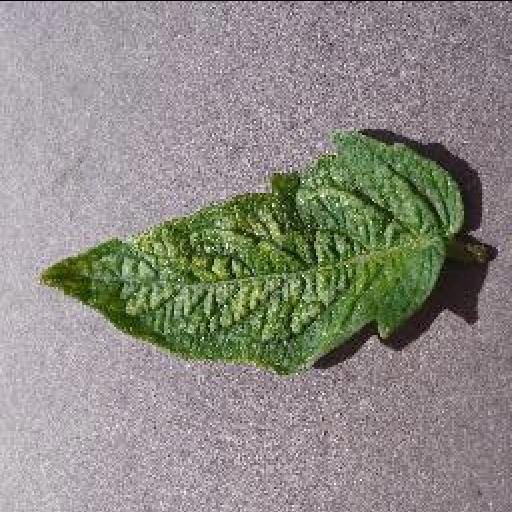disease_tomato: (38, 132, 464, 374)
